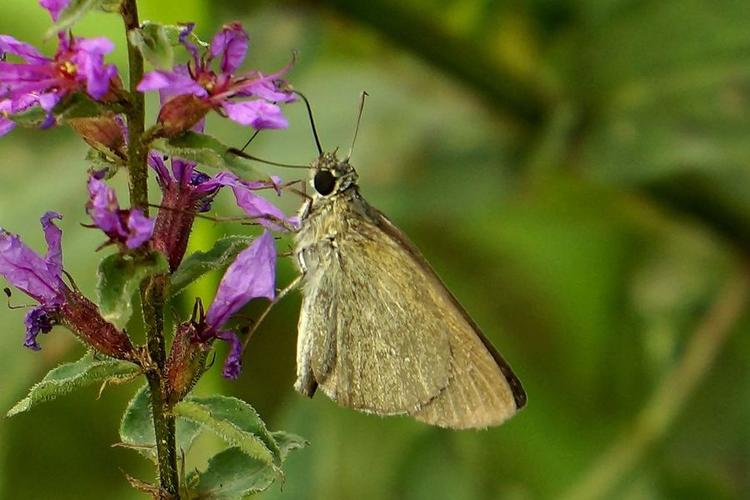Hesperiidae: (225, 91, 528, 432)
